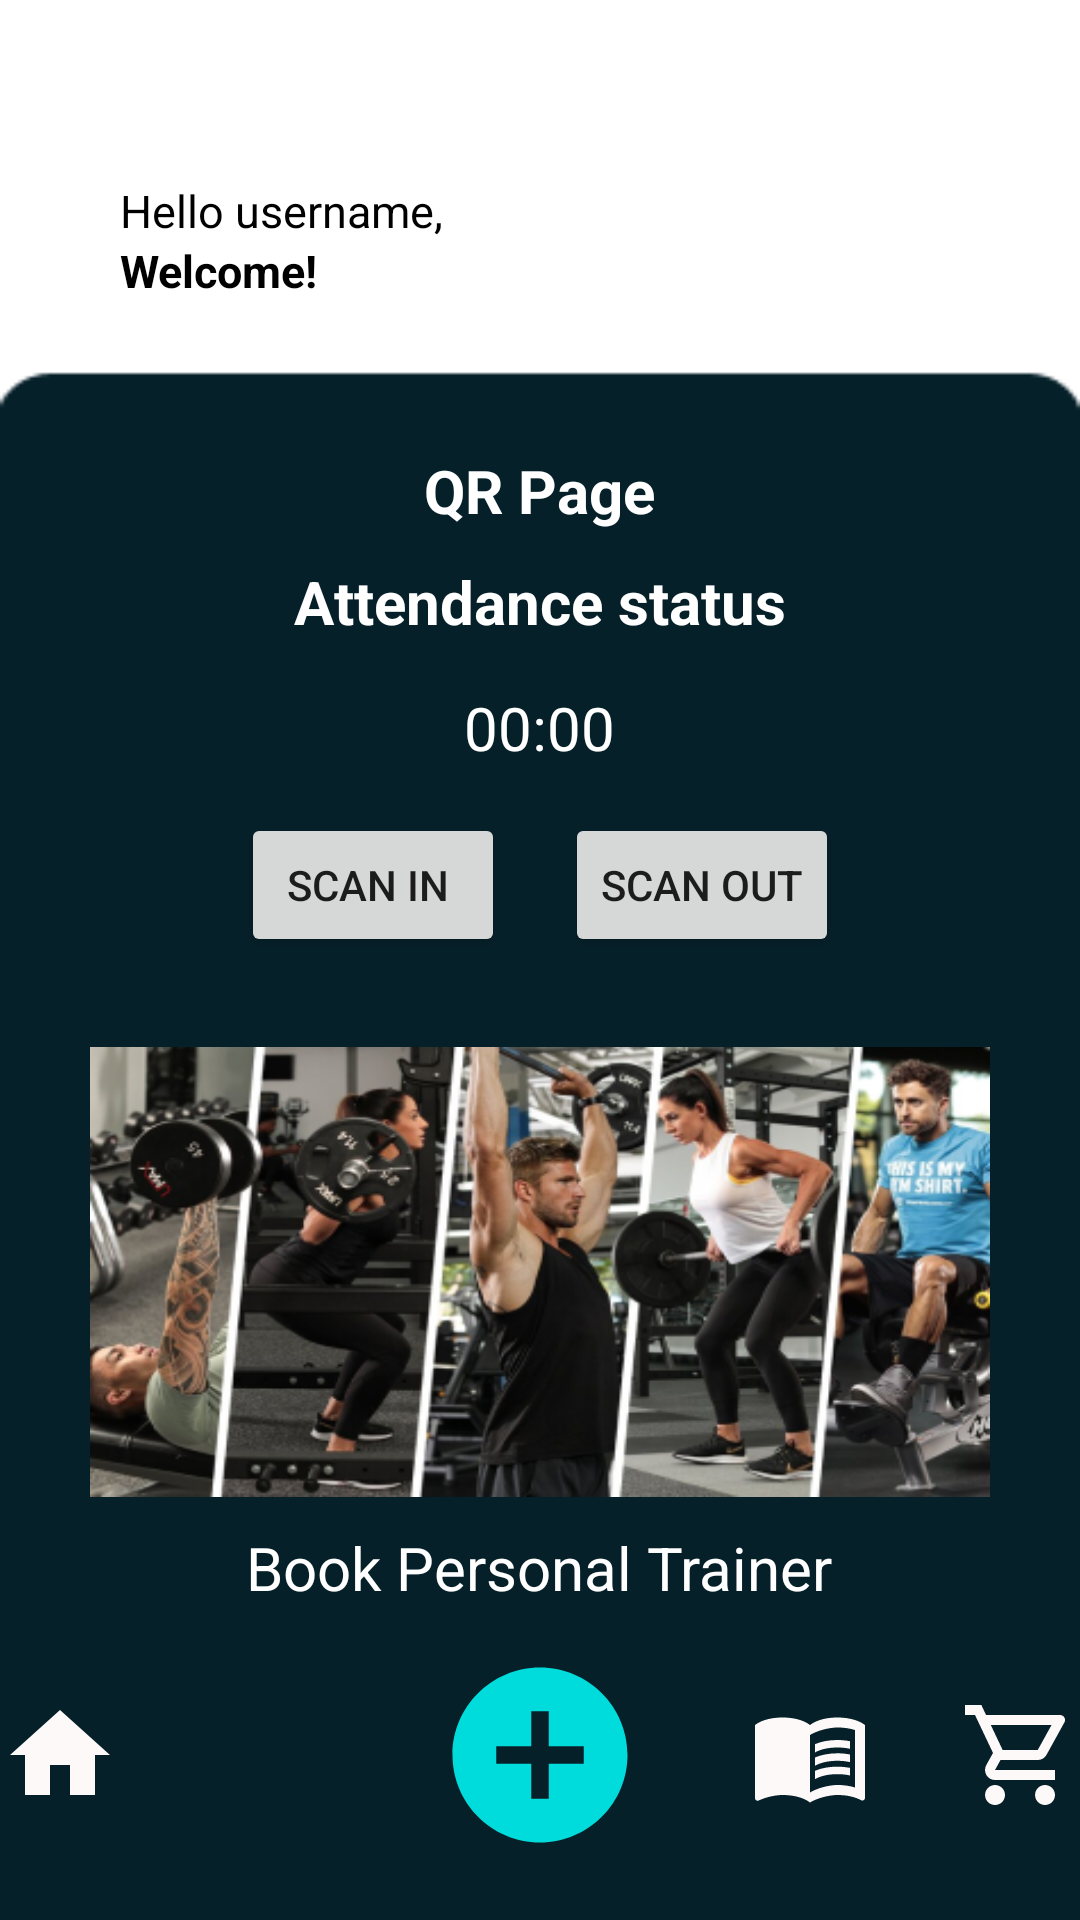

Icons on this 1080 x 1920 Android screen, each with the point to tap as (x,y):
add circle: (540,1755)
home: (60,1752)
shopping cart: (1015,1755)
